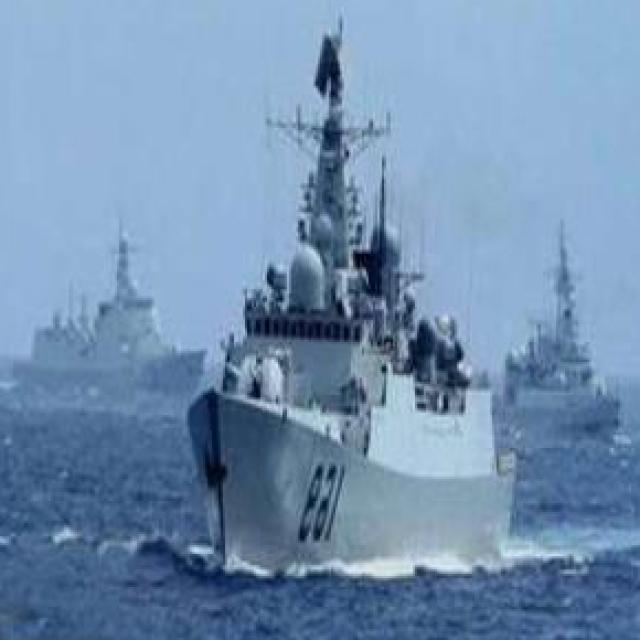navalvessels: (186, 24, 506, 606), (0, 200, 219, 397), (497, 215, 637, 444)
